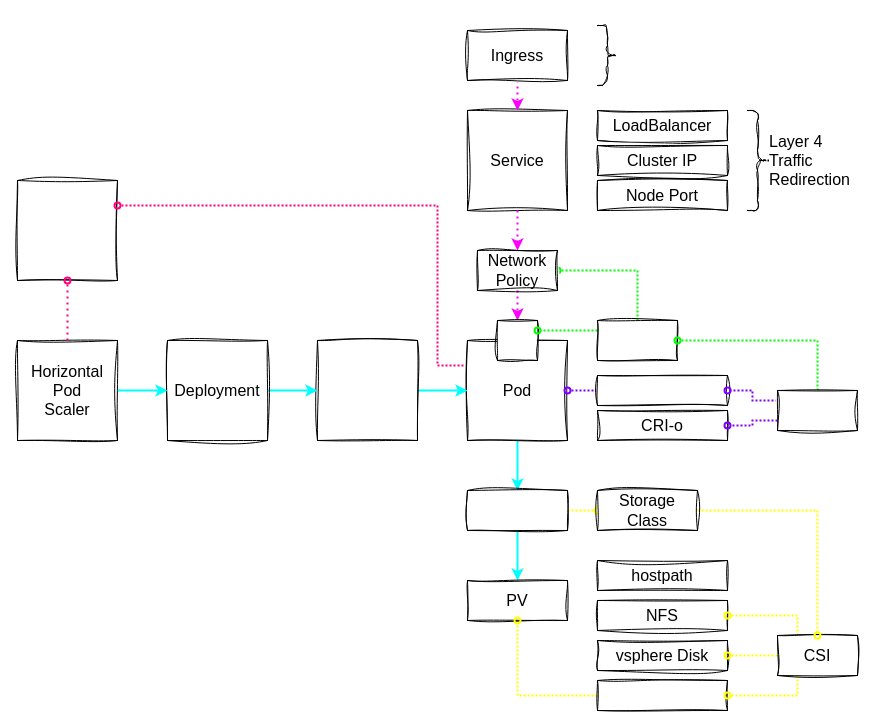
Some shapes in this 875 by 728 pixel diagram are drawn without their labels. Here are the shapes that lost their labels. From the top down, the centre of each, then its label:
At (607,55): "Domain name Traffic Redirection".
At (67,230): "Metric Server".
At (517,340): "Pod IP".
At (637,340): "CNI".
At (367,390): "Replica Set".
At (662,390): "Containerd".
At (817,410): "CRI".
At (517,510): "PVC".
At (662,695): "AWS EBS".
